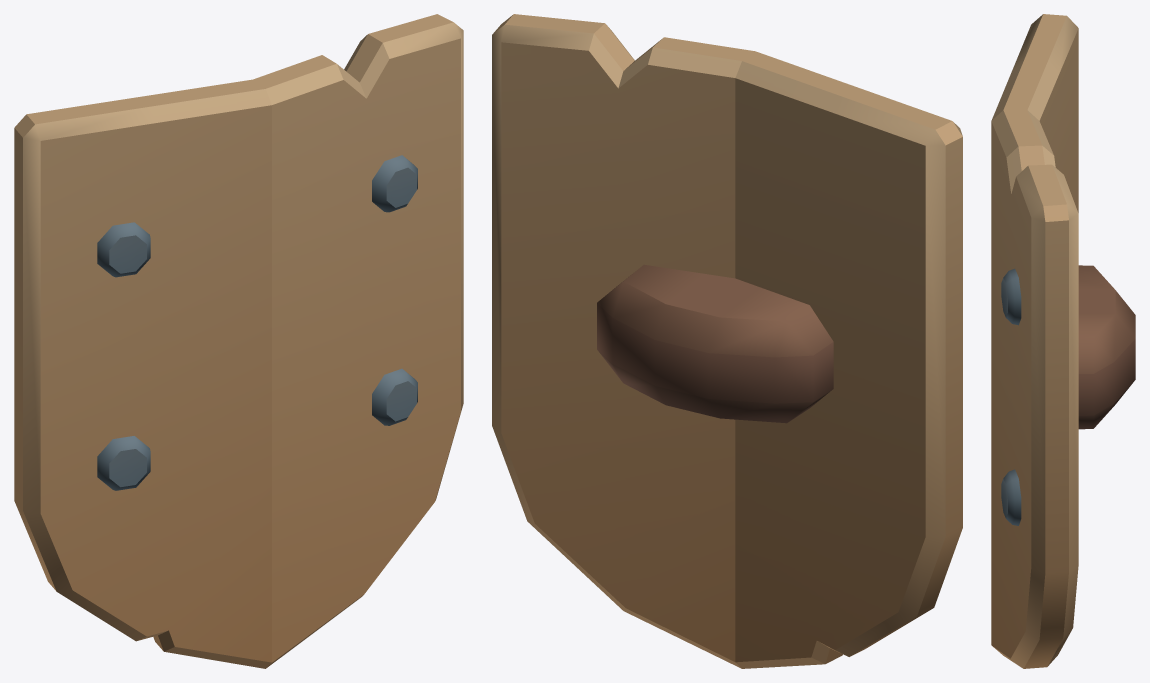
The model's file is XW_shield_A.glb.
3 renders of one model, left to right at view 1: azimuth 30°, elevation 25°; view 2: azimuth 150°, elevation 25°; view 3: azimuth 270°, elevation 25°, orthographic. The views are drawn at different scales.
Visible parts, largest first — view 1: shield_A; view 2: shield_A; view 3: shield_A.
Boxes of the visible parts, box(x1,y1,x2,y2) form: shield_A: box(14, 14, 463, 668); shield_A: box(492, 14, 962, 668); shield_A: box(991, 14, 1135, 668).
Size of the model in its own units: 0.7726 by 0.9799 by 0.2329.
